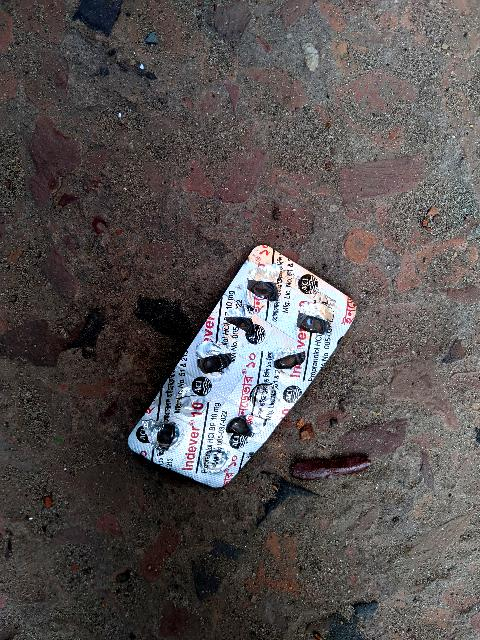medicine: (102, 226, 374, 517)
